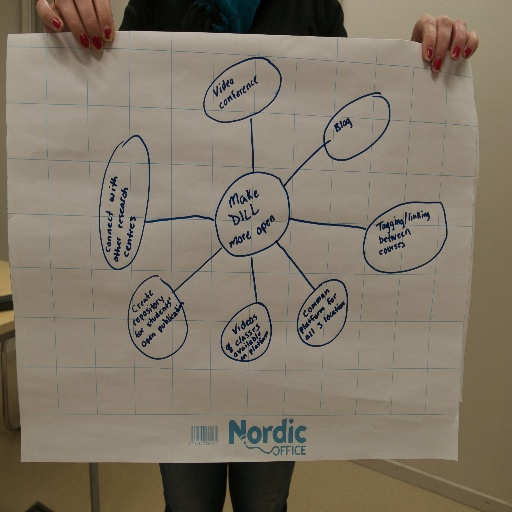hand: (408, 12, 479, 77), (33, 0, 115, 54)
